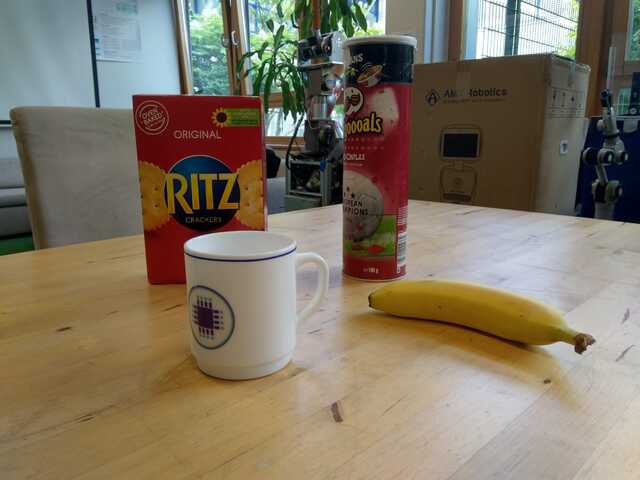001_chips_can: (339, 34, 418, 282)
003_cracker_box: (128, 91, 273, 287)
011_banana: (365, 277, 603, 362)
025_mug: (181, 227, 333, 383)
